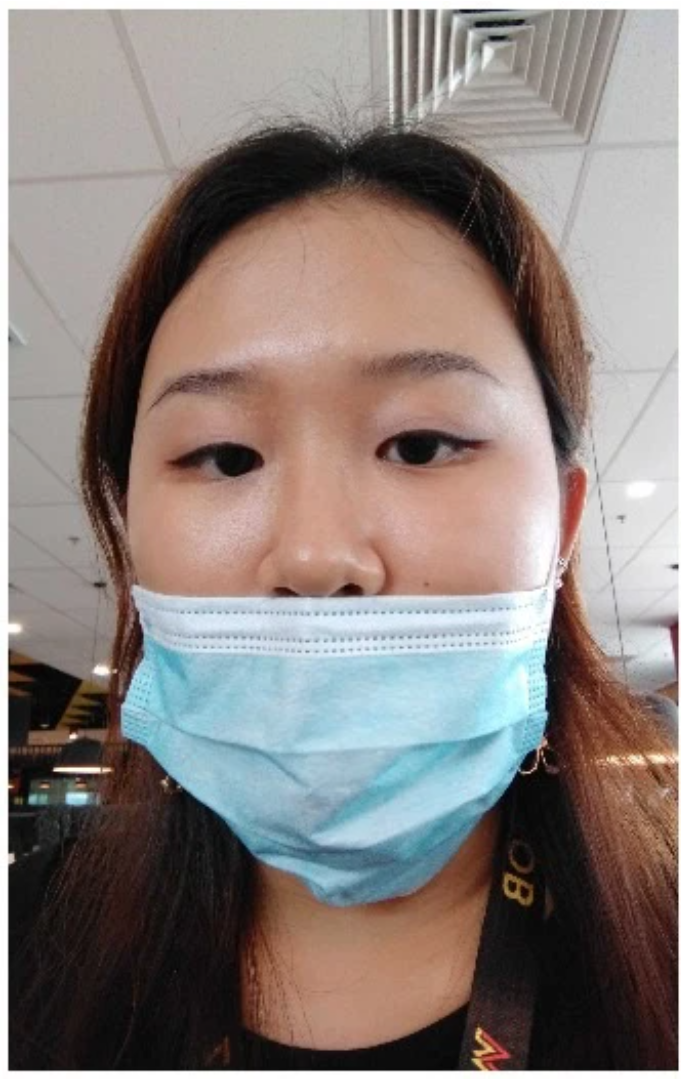mask_weared_incorrect: (109, 236, 599, 919)
